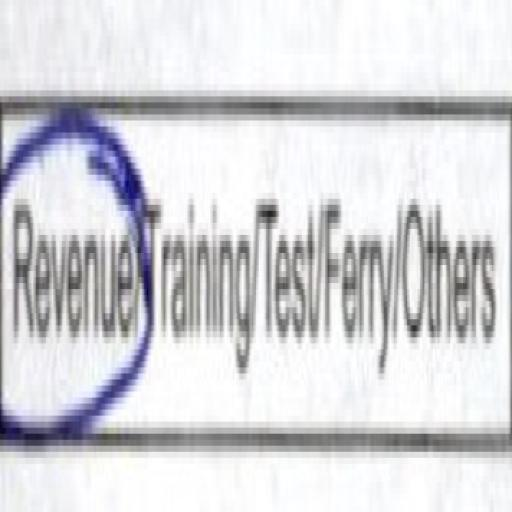check: (0, 48, 144, 512)
